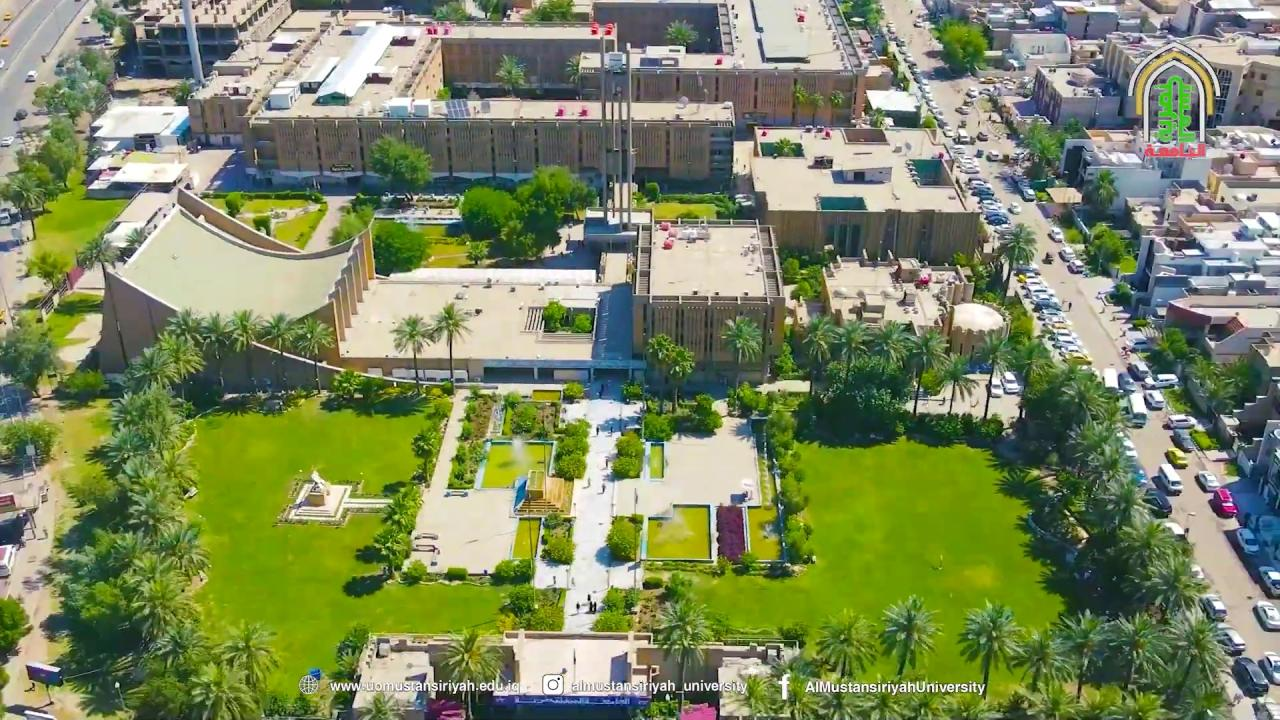car: (1231, 657, 1269, 698), (1211, 625, 1246, 656), (1209, 487, 1238, 518), (1141, 489, 1172, 518), (1253, 601, 1279, 632), (1158, 463, 1183, 495), (1199, 594, 1228, 621), (1258, 565, 1279, 599), (1258, 652, 1279, 686), (1236, 527, 1260, 553), (1170, 428, 1196, 452), (0, 544, 17, 577), (1158, 521, 1186, 541), (1195, 471, 1221, 492), (1164, 448, 1188, 469), (1166, 414, 1197, 430), (1048, 226, 1064, 242), (1130, 412, 1147, 427), (0, 135, 13, 147), (13, 109, 27, 120), (26, 70, 37, 81)
fountain: (476, 433, 556, 490), (642, 501, 714, 564), (278, 467, 352, 526), (747, 507, 784, 563), (511, 514, 543, 566), (306, 468, 327, 507)
tree: (47, 328, 280, 718), (457, 163, 596, 262), (759, 409, 812, 564), (1154, 608, 1227, 718), (651, 595, 711, 715), (119, 551, 196, 642), (955, 598, 1022, 700), (439, 625, 505, 719), (108, 382, 186, 457), (1096, 610, 1165, 693), (876, 593, 942, 678), (0, 308, 59, 398), (1048, 607, 1103, 702), (1132, 547, 1205, 617), (813, 606, 878, 681), (217, 618, 281, 690), (998, 331, 1048, 418), (123, 473, 184, 544), (186, 662, 259, 719), (367, 133, 432, 197), (1008, 627, 1066, 696), (325, 622, 371, 709), (1187, 353, 1249, 417), (992, 221, 1038, 306), (919, 350, 978, 416), (388, 313, 437, 389), (153, 331, 206, 401), (429, 301, 472, 382), (930, 16, 987, 75), (292, 315, 335, 393), (975, 327, 1011, 420), (1, 417, 59, 474), (369, 220, 428, 276), (458, 185, 517, 240), (258, 311, 300, 385), (39, 116, 82, 187), (8, 158, 63, 212), (225, 308, 264, 382), (765, 504, 812, 565), (199, 310, 235, 387), (5, 172, 46, 239), (1022, 119, 1064, 178), (646, 332, 676, 411), (379, 482, 423, 535), (720, 313, 764, 365), (831, 318, 868, 379), (1083, 221, 1124, 275), (21, 249, 73, 291), (528, 164, 573, 212), (870, 318, 909, 373), (553, 451, 587, 514), (641, 413, 673, 478), (372, 525, 412, 576), (1081, 167, 1119, 220), (0, 594, 32, 656), (410, 424, 442, 485), (666, 344, 696, 409), (801, 312, 835, 366), (75, 233, 120, 272), (552, 434, 588, 480), (604, 515, 639, 562), (612, 430, 644, 478), (493, 53, 527, 97), (358, 690, 405, 719), (688, 393, 722, 433), (520, 0, 574, 25), (539, 530, 576, 566), (94, 7, 132, 42), (772, 341, 803, 381), (663, 17, 698, 52), (564, 54, 583, 100), (119, 226, 145, 258), (167, 76, 196, 104), (542, 297, 565, 332), (431, 0, 467, 22), (464, 239, 492, 266), (790, 81, 807, 125), (223, 190, 246, 217), (920, 113, 939, 144), (807, 92, 824, 126), (828, 89, 844, 125), (562, 380, 584, 403), (251, 213, 272, 236), (773, 136, 796, 157), (868, 106, 886, 128)
